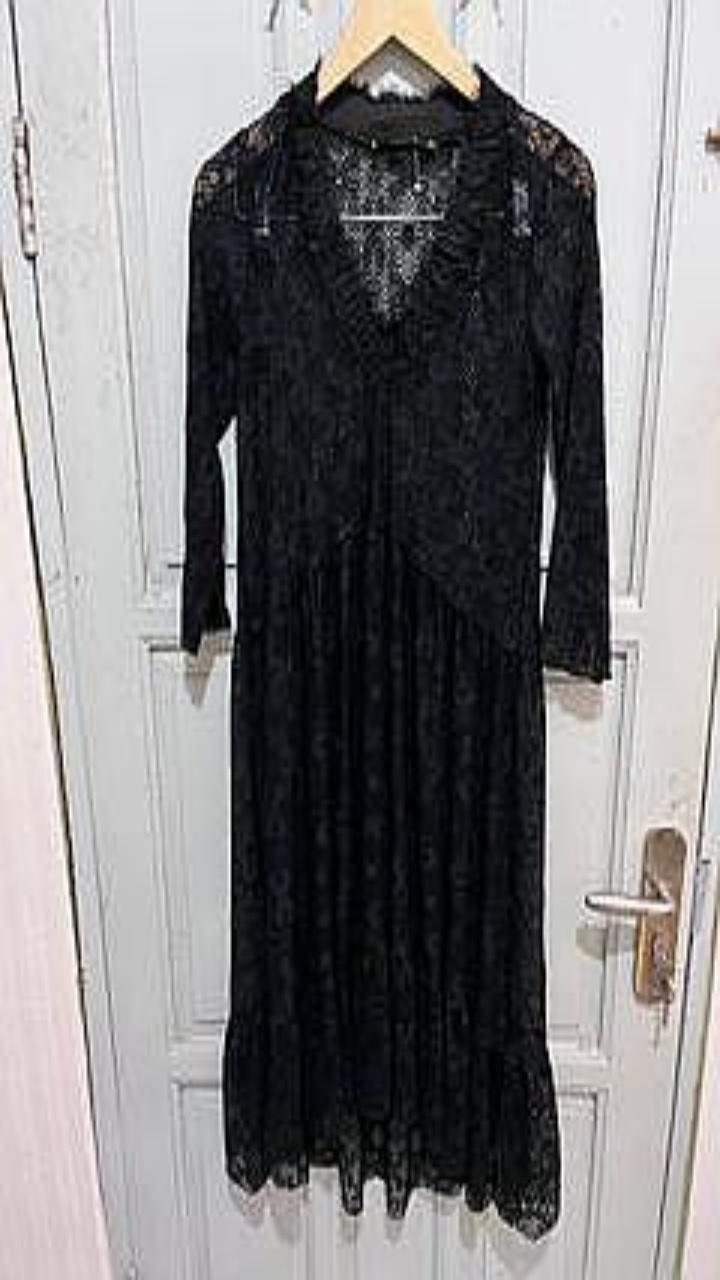Dresses: (182, 64, 609, 1237)
